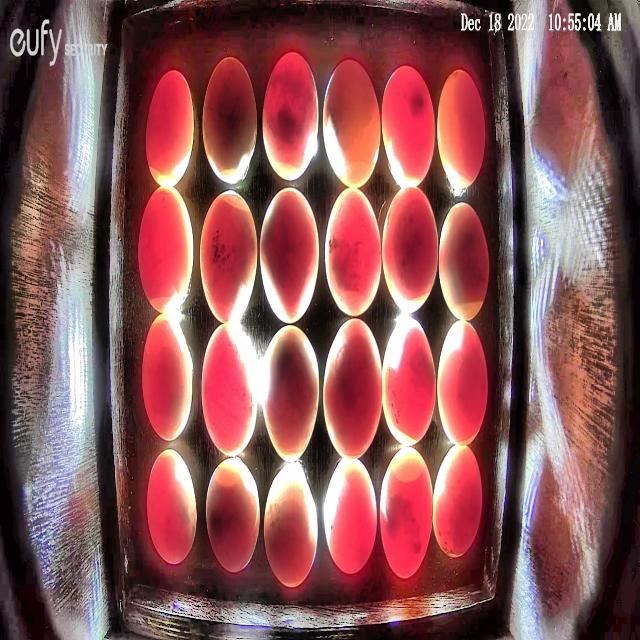FE: (322, 318, 383, 459), (259, 185, 320, 325), (321, 58, 382, 189), (199, 191, 258, 324), (200, 322, 258, 456), (263, 325, 319, 461), (325, 187, 383, 316), (262, 50, 319, 181), (136, 186, 194, 313), (202, 56, 258, 185), (382, 318, 437, 448), (382, 185, 438, 312), (380, 446, 433, 578), (141, 312, 193, 441), (382, 64, 436, 188), (264, 464, 318, 588), (204, 458, 261, 574), (437, 321, 489, 446), (324, 456, 378, 574), (438, 200, 489, 320), (437, 69, 486, 192), (145, 68, 195, 188), (147, 448, 197, 565), (433, 448, 483, 560)
